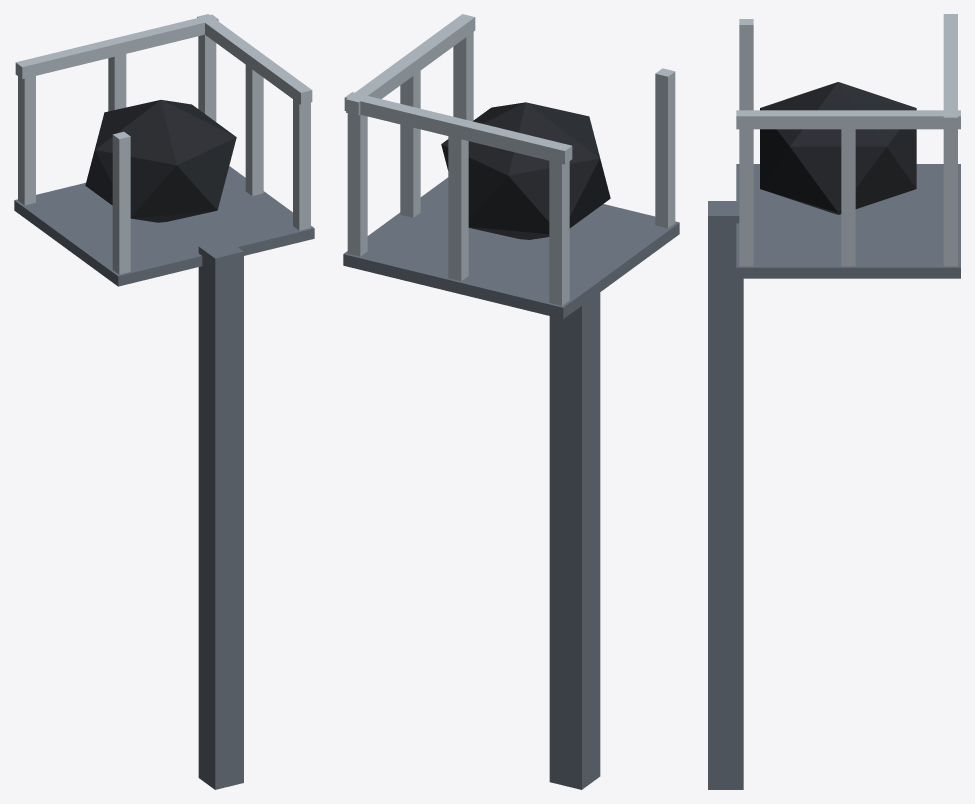
File: lixeira_grade.glb
3 renders of one model, left to right at view 1: azimuth 30°, elevation 25°; view 2: azimuth 150°, elevation 25°; view 3: azimuth 270°, elevation 25°, orthographic. The views are drawn at different scales.
Visible parts, largest first — view 1: corpo; view 2: corpo; view 3: corpo.
Boxes of the visible parts, <box> form: corpo: <box>14,14,314,789</box>; corpo: <box>343,14,679,789</box>; corpo: <box>708,14,960,789</box>.
Size of the model in its own units: 0.24 by 0.774 by 0.2475.
